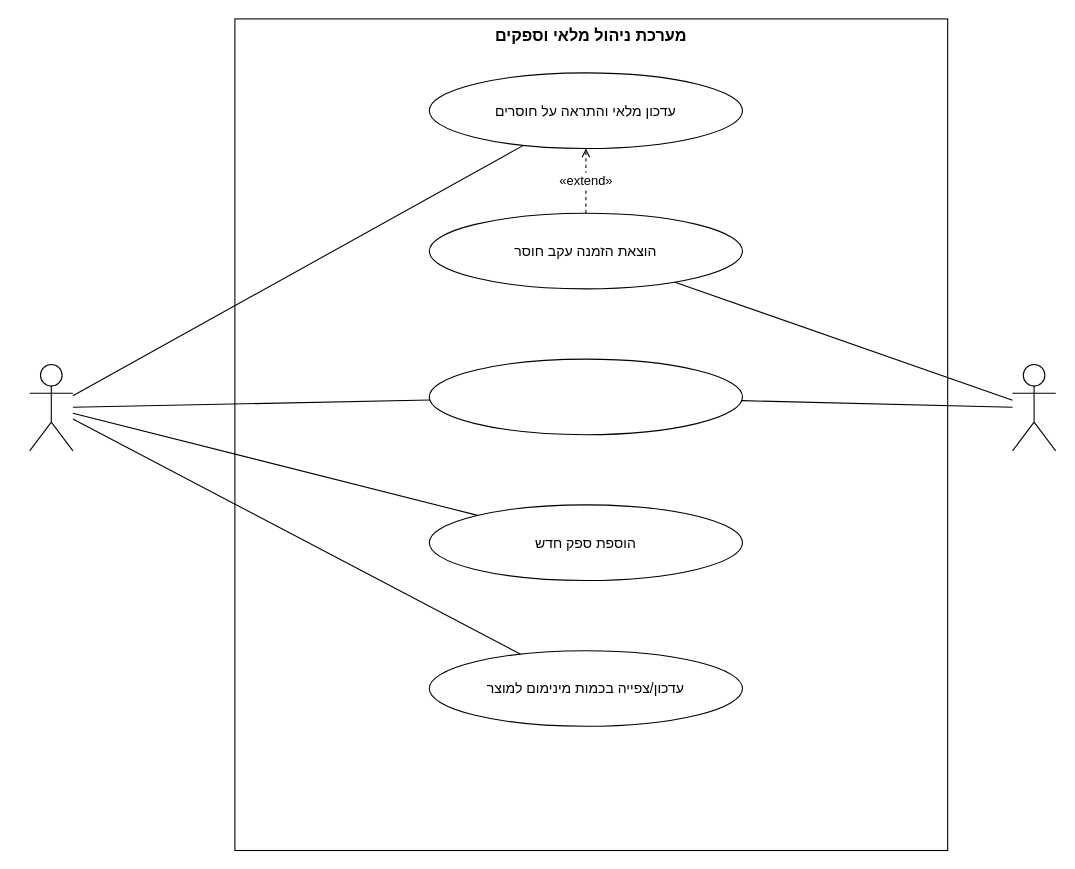
Some shapes in this 1075 by 869 pixel diagram are drawn without their labels. The shapes that lost their labels are listed below. From the top down, each one's box as (x1, y1, x2, y2) in pixels, then its label:
(29, 363, 73, 451): מנהל מלאי
(428, 358, 742, 435): הוצאת הזמנה תקופתית מספק
(1011, 363, 1056, 451): ספק
